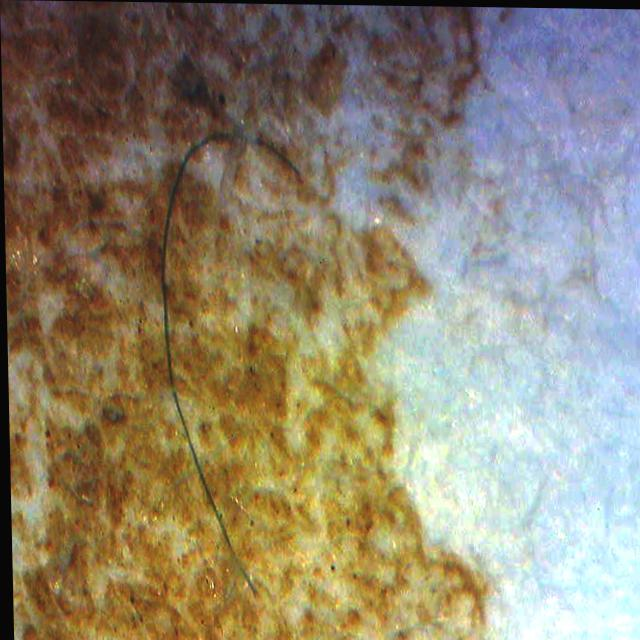microplastic: (161, 134, 299, 593)
